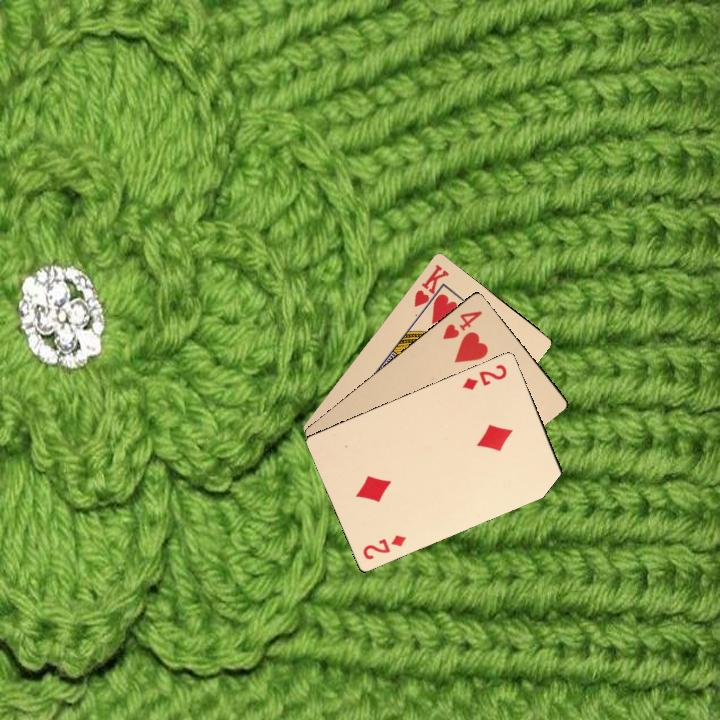2d: (459, 360, 509, 393), (359, 531, 409, 562)
4h: (438, 306, 485, 342)
Kh: (410, 260, 452, 315)
